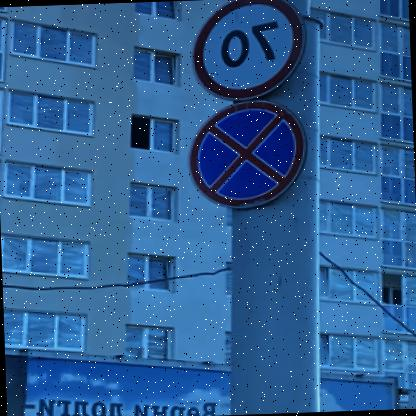speedlimit: (191, 0, 310, 103)
